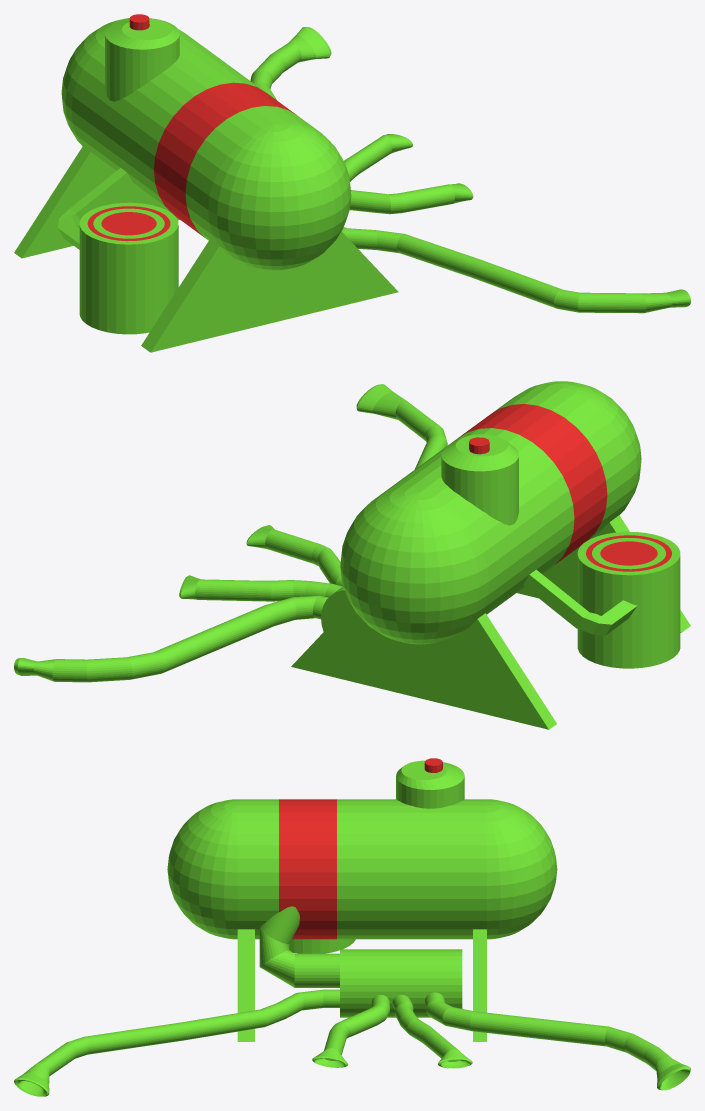
Rendered from Gas tank.fbx.
The picture shows the model from 3 angles, top to bottom: view 1: azimuth 30°, elevation 25°; view 2: azimuth 150°, elevation 25°; view 3: azimuth 270°, elevation 25°; orthographic projection. The views are drawn at different scales.
Parts seen in each view (by area): view 1: Sphere; view 2: Sphere; view 3: Sphere.
Boxes of the visible parts, left/top/right/bottom form: Sphere: left=14, top=14, right=690, bottom=352; Sphere: left=14, top=381, right=690, bottom=729; Sphere: left=14, top=758, right=690, bottom=1096.
Size of the model in its own units: 677 by 334 by 965.
